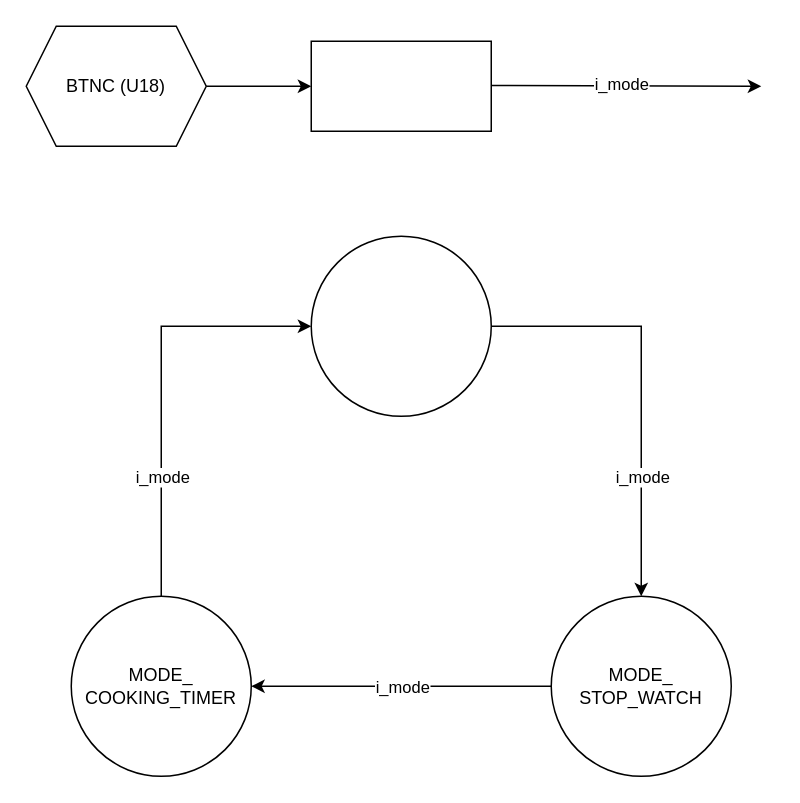
Image size: 800x803. Some labels were removed from this diagram. Here are the shapes that lost their labels. From the top down, the centre of each, then its label:
At (x=400, y=85): "buttonControl BTN_C".
At (x=400, y=325): "MODE_WATCH".
